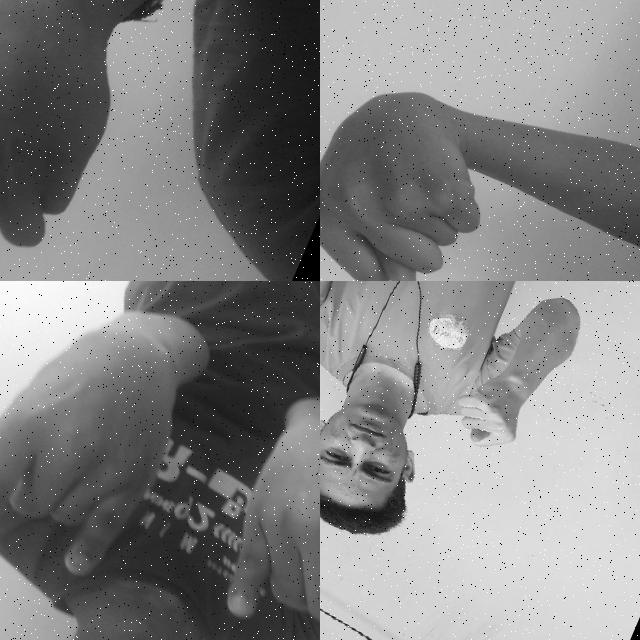Corna: (0, 281, 216, 629), (189, 380, 320, 640)
Dulya: (320, 48, 528, 281), (436, 354, 548, 470)
Reversed Victory: (0, 0, 173, 281)
